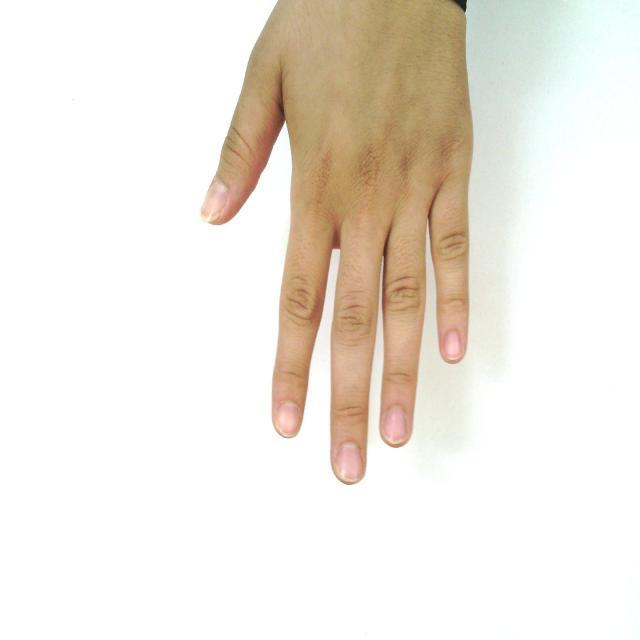Fingernail: (201, 180, 227, 220), (339, 443, 362, 481), (383, 407, 406, 443), (278, 403, 299, 435), (444, 331, 460, 358)
